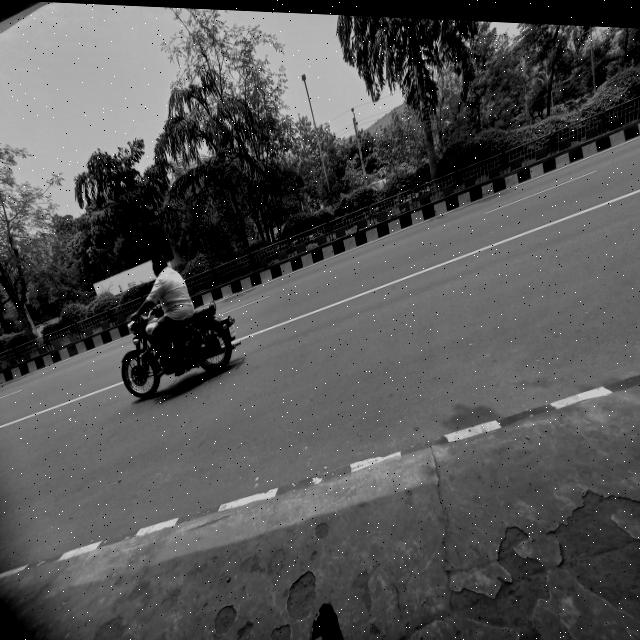bike: (108, 306, 235, 400)
